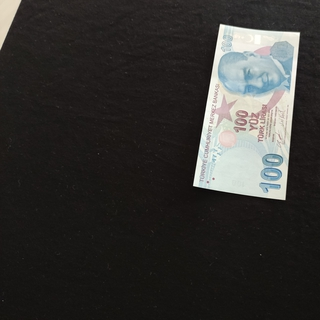100TLFront: (193, 23, 300, 200)
